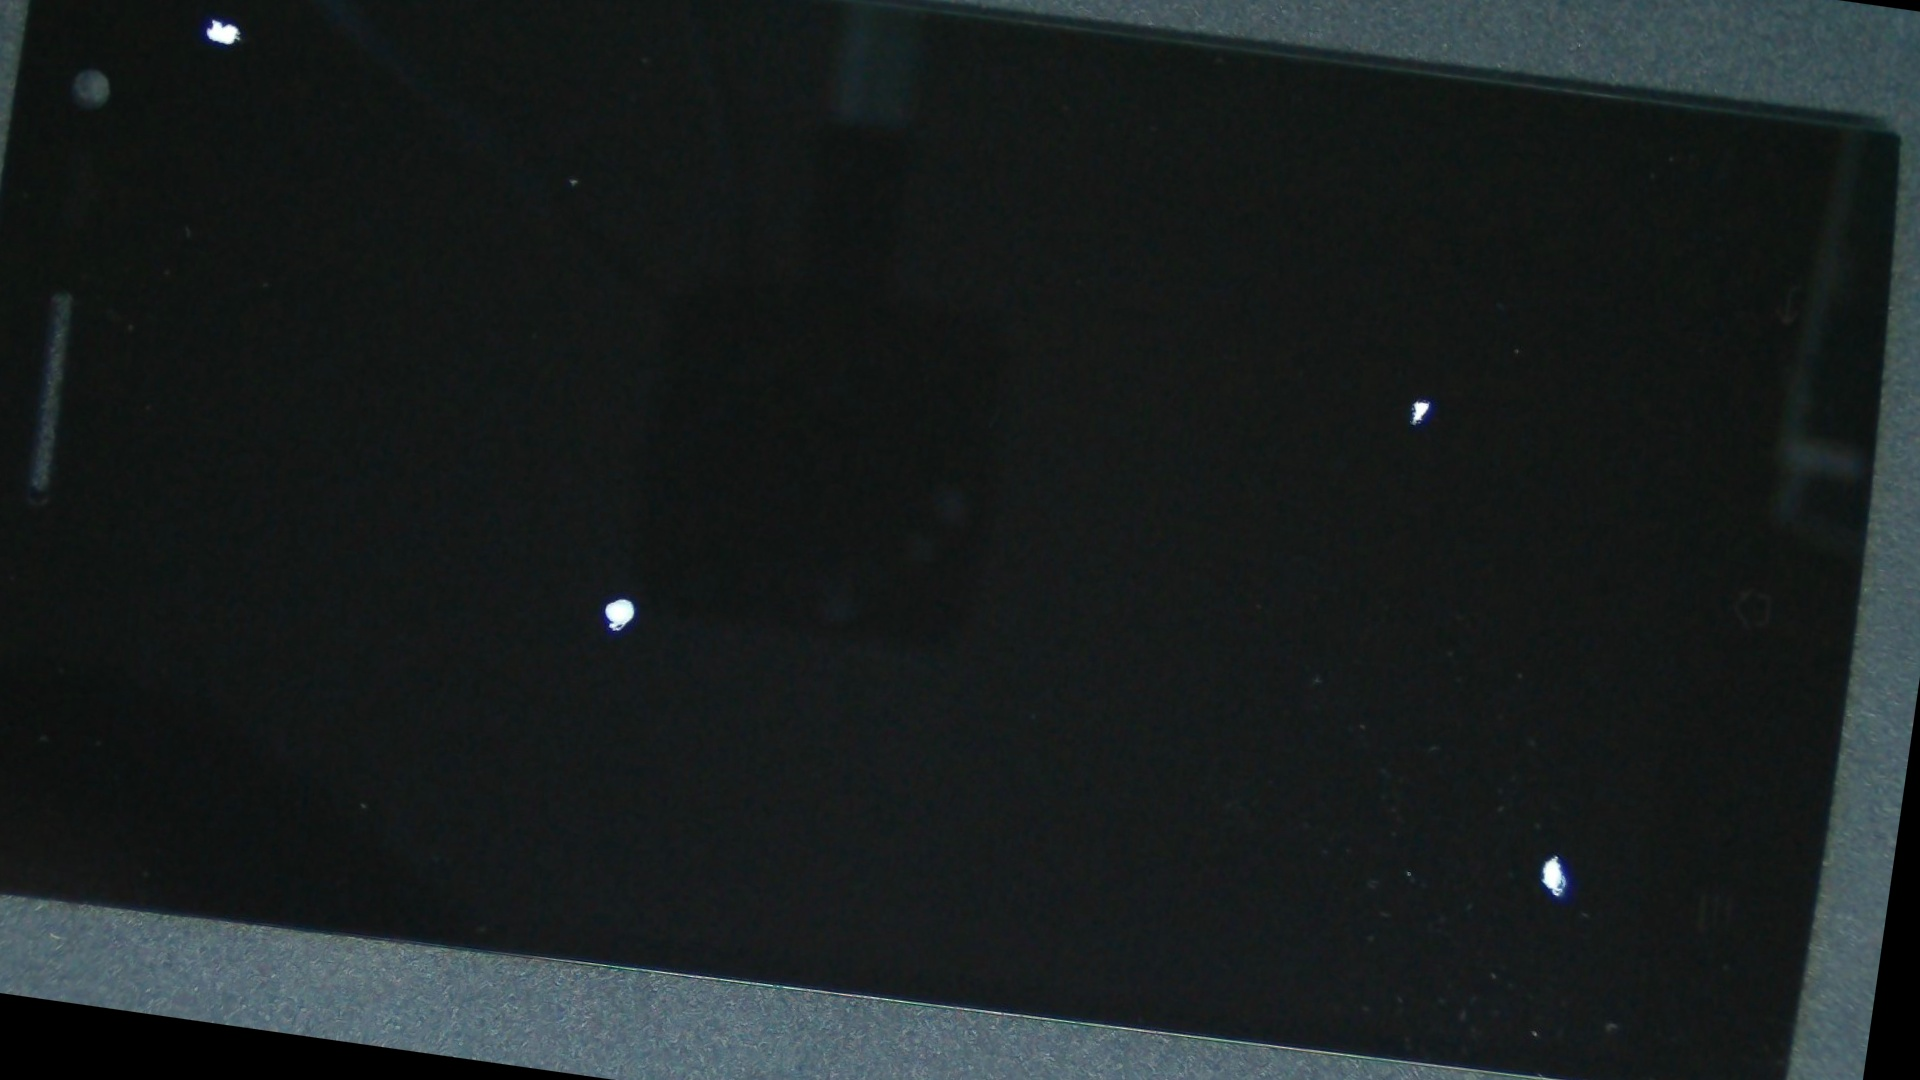oil: (634, 291, 1920, 1080), (616, 63, 1920, 696), (173, 164, 1071, 1031), (40, 0, 384, 161)
